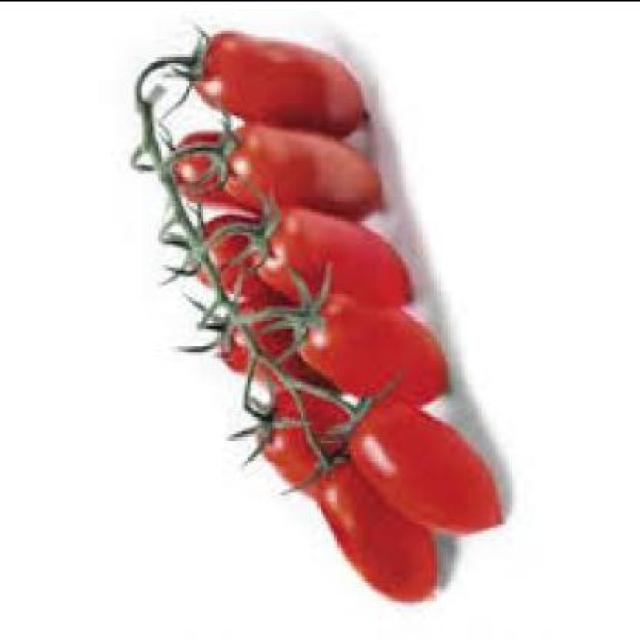BIODEGRADABLE: (337, 403, 503, 539), (312, 450, 438, 604), (190, 32, 378, 128), (242, 208, 420, 303), (292, 302, 454, 400), (211, 129, 392, 213), (253, 392, 364, 494), (190, 211, 312, 298), (214, 296, 326, 386), (164, 130, 259, 208)
